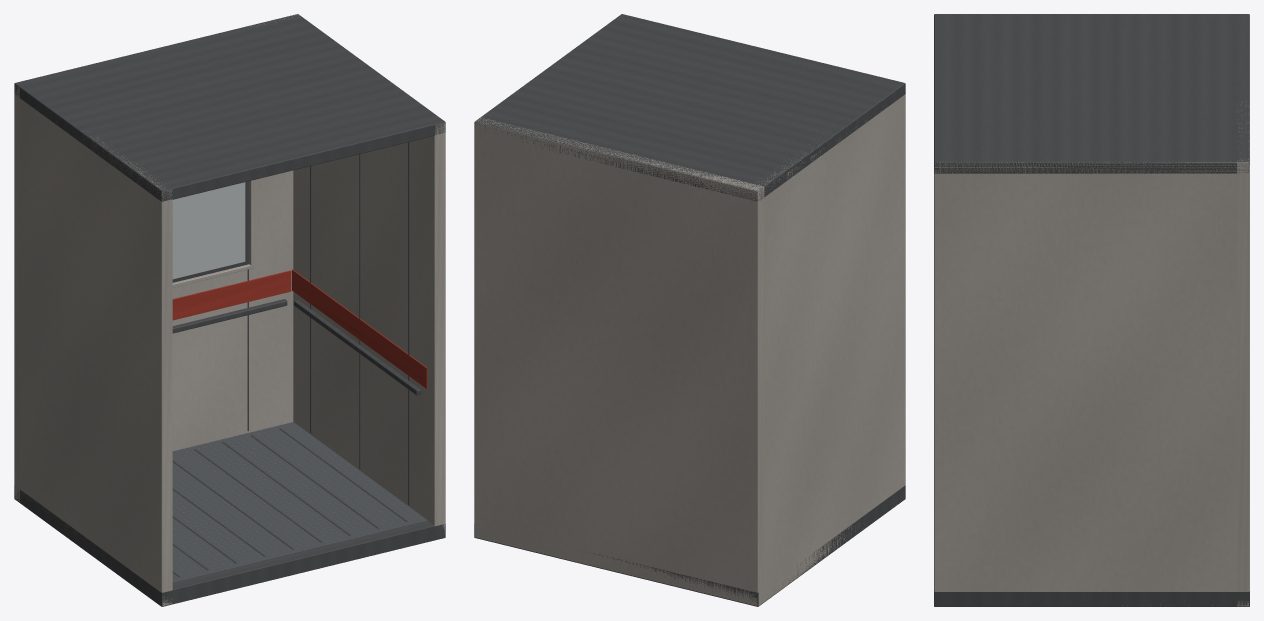
Rendered from elevator_cabin.glb.
3 views of the same model, side by side, from view 1: azimuth 30°, elevation 25°; view 2: azimuth 150°, elevation 25°; view 3: azimuth 270°, elevation 25° (orthographic). The views are drawn at different scales.
Visible parts, largest first — view 1: side_wall.010, ceiling.006, side_wall.011, floor_inset, back_wall.002, floor_base.001, MirrorSurface, side_red_stripe.001, rear_red_stripe, side_handrail.001, rear_handrail, mirror_backing (+1 smaller); view 2: back_wall.002, side_wall.010, ceiling.006, floor_base.001; view 3: side_wall.011, ceiling.006, back_wall.002, floor_base.001.
Part boxes in pixels (x1,y1,x2,y2): side_wall.010: (15,98,172,605); ceiling.006: (14,14,445,201); side_wall.011: (293,123,445,530); floor_inset: (172,422,427,583); back_wall.002: (14,14,297,502); floor_base.001: (14,485,445,606); MirrorSurface: (172,182,245,279); side_red_stripe.001: (292,269,427,388); rear_red_stripe: (172,270,291,320); side_handrail.001: (294,300,421,395); rear_handrail: (172,299,287,333); mirror_backing: (172,181,249,282); back_wall.002: (474,117,764,605); side_wall.010: (747,94,905,605); ceiling.006: (475,14,905,201); floor_base.001: (474,485,905,606); side_wall.011: (934,162,1249,605); ceiling.006: (934,14,1249,173); back_wall.002: (1237,15,1249,606); floor_base.001: (934,591,1249,606).
Bounding box in the file's own units: 2 × 2.8 × 1.8.
Materials: 8 (5 with a texture image).
